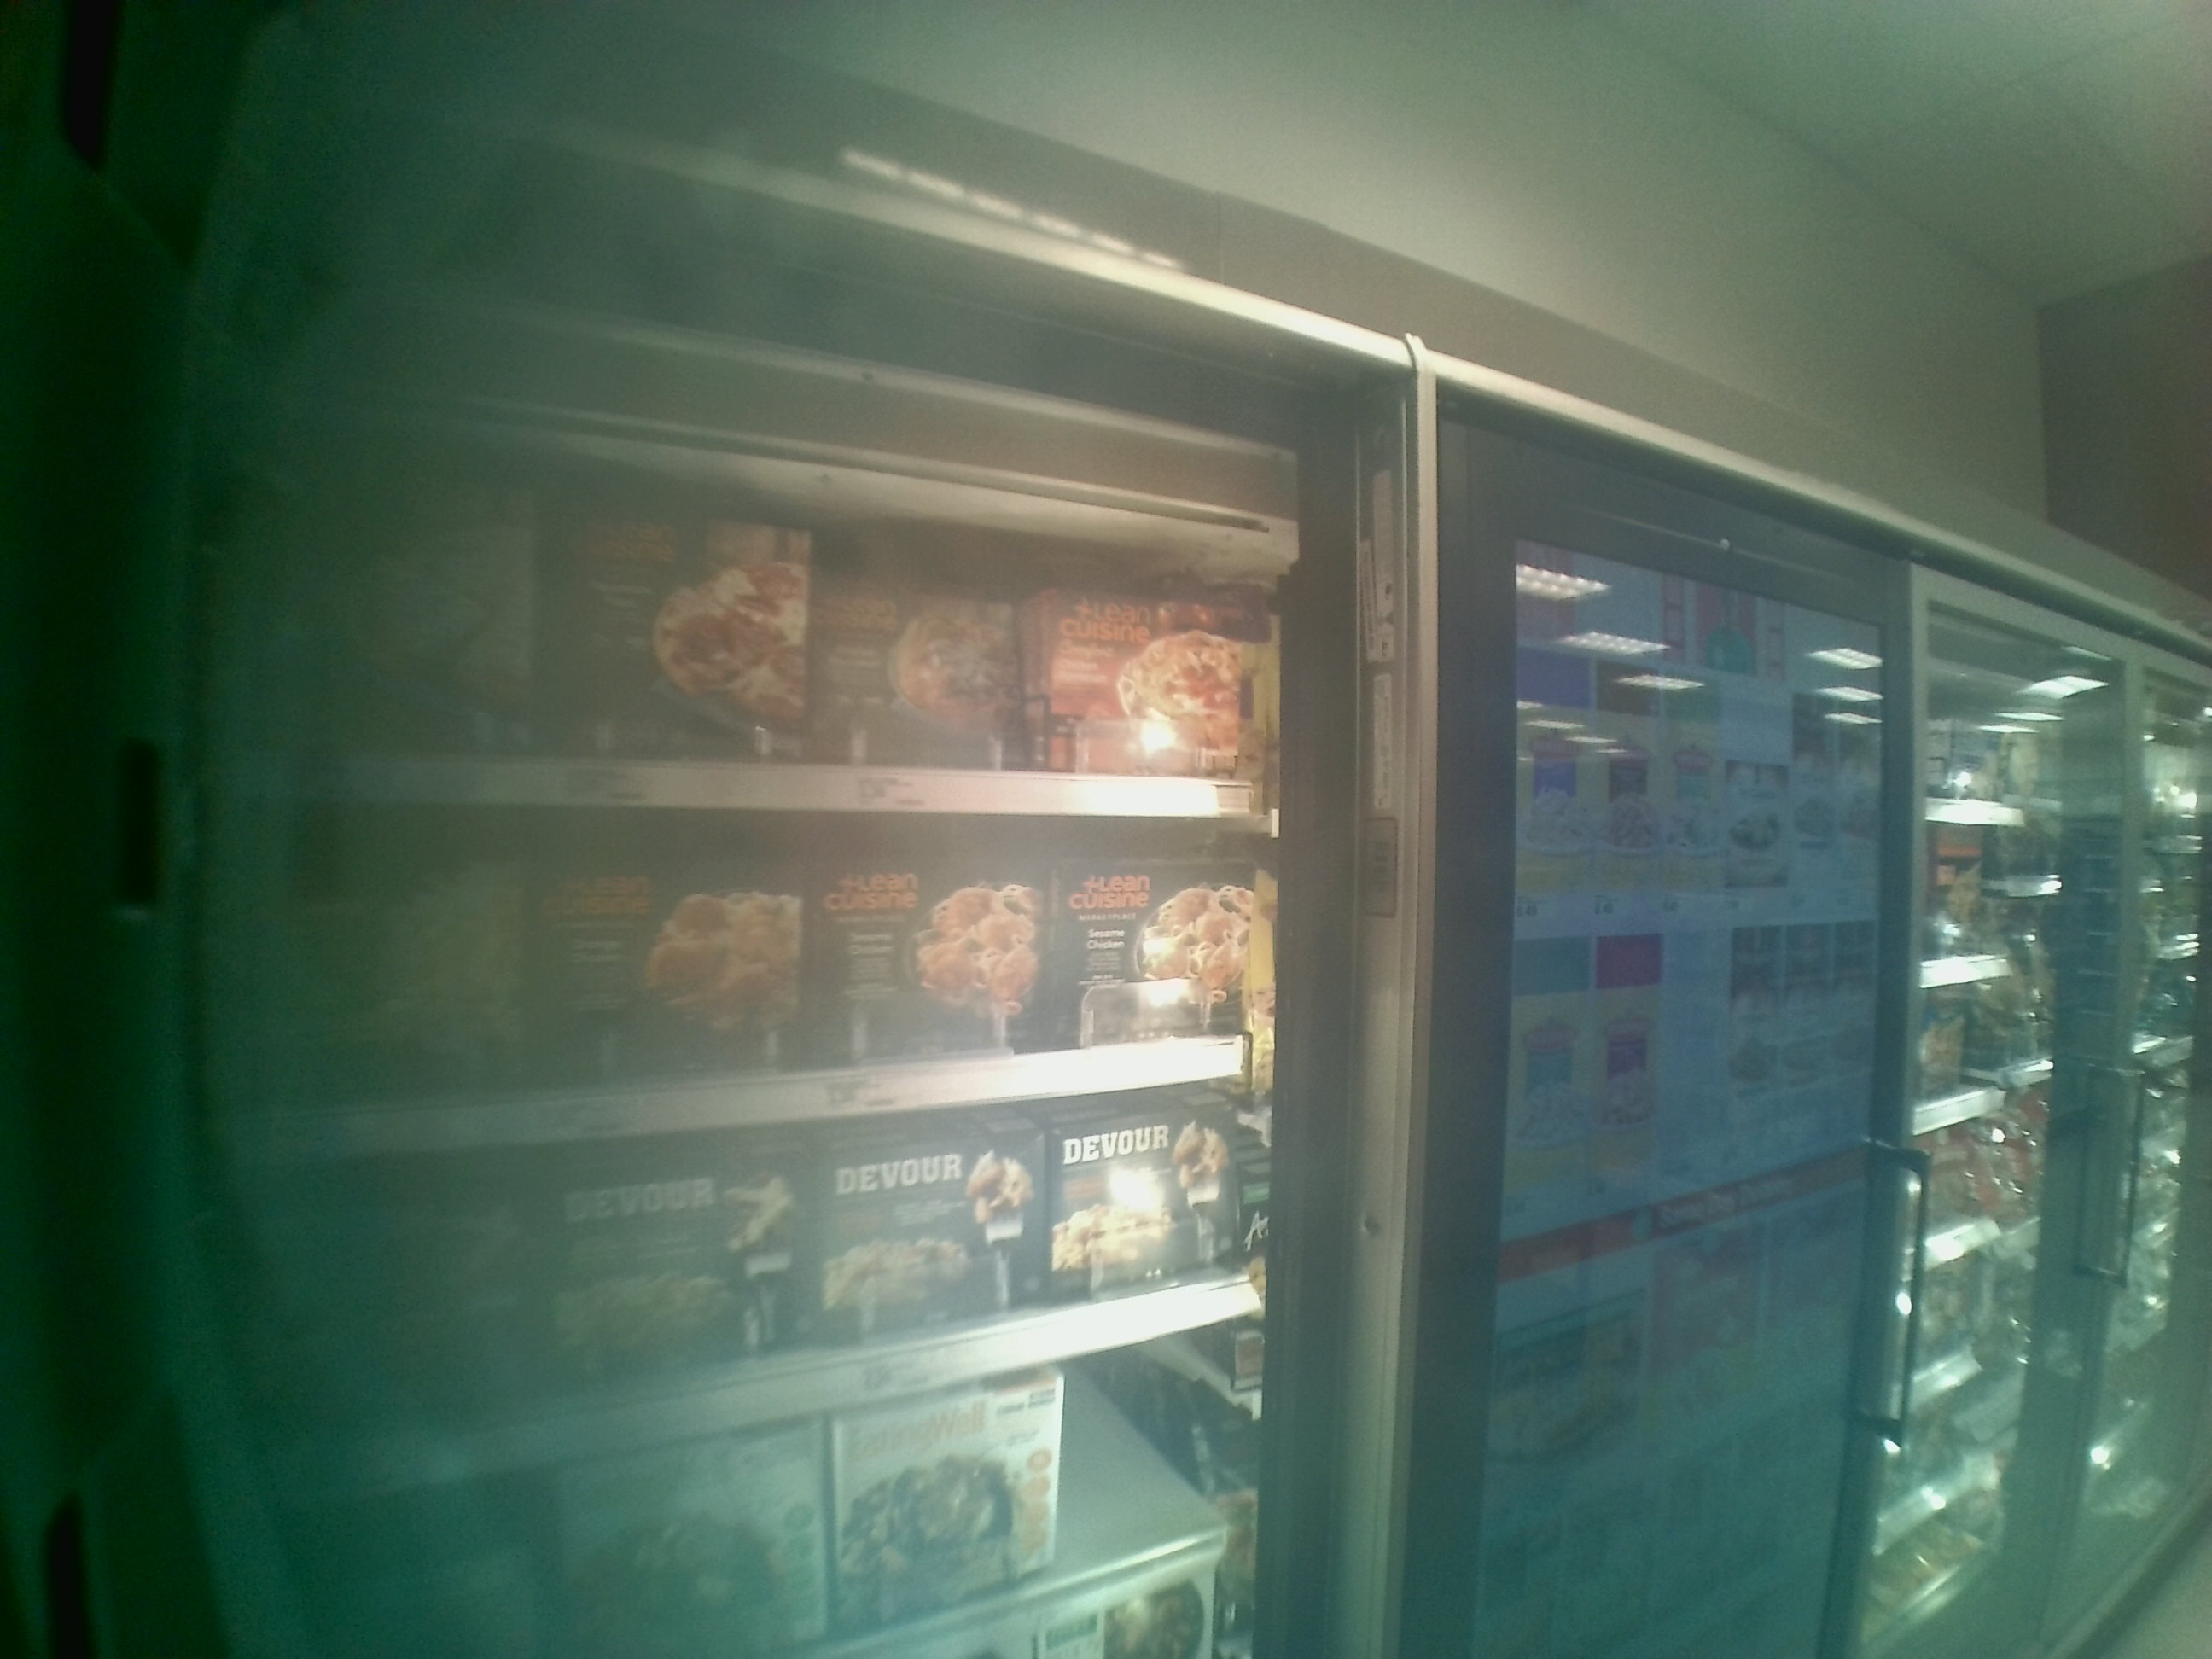pizza: (265, 823, 531, 1079), (566, 497, 813, 749), (307, 490, 533, 741), (265, 1182, 523, 1401), (531, 859, 808, 1063), (561, 1425, 817, 1642), (843, 1405, 1064, 1636), (536, 1162, 787, 1361), (803, 1136, 1043, 1342), (819, 552, 1045, 769), (1035, 591, 1273, 769), (817, 864, 1038, 1051), (1029, 1110, 1245, 1291), (1052, 854, 1251, 1028)
